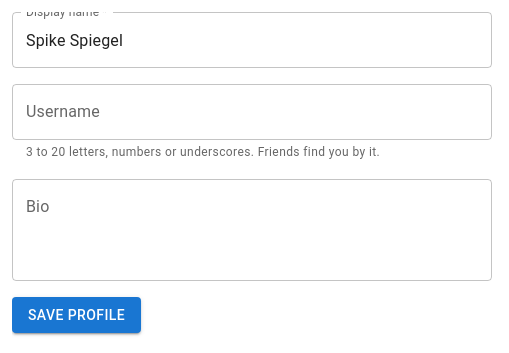
ProfileForm › shows a rejected field under that field and keeps what was typed
The image size is (509, 353).
Type "faye" into the field labelled "Username".
click(252, 112); type("faye")  # box [12,84,492,140]
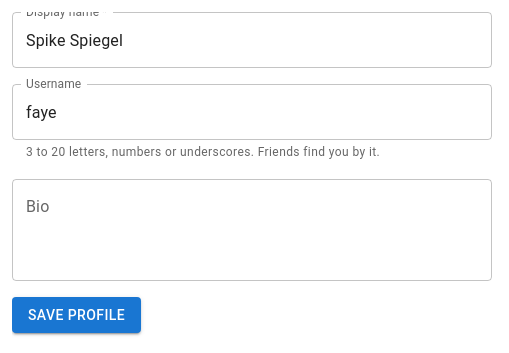
Click the button "Save profile".
click(76, 315)  # box [12,297,141,333]
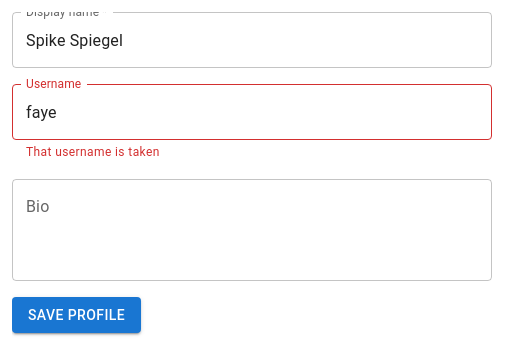
Expected: the text "That username is taken" is shown, [26,145,160,159]
